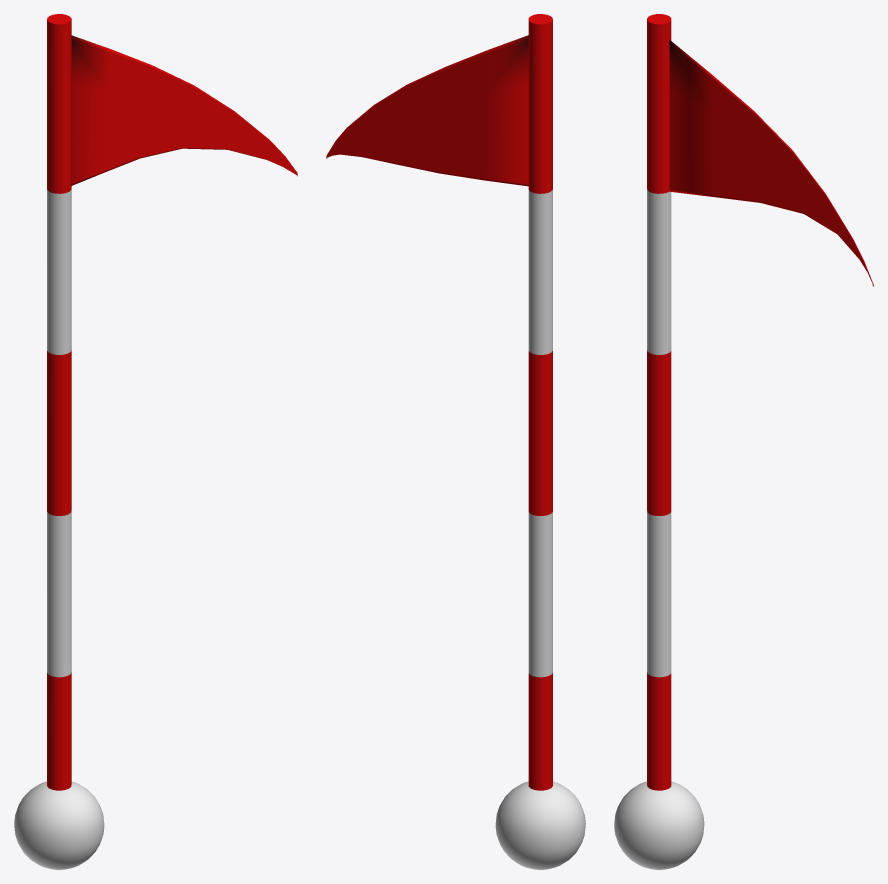
Rendered from flag_with_animation.fbx.
3 renders of one model, left to right at view 1: azimuth 30°, elevation 25°; view 2: azimuth 150°, elevation 25°; view 3: azimuth 330°, elevation 25°, orthographic.
Visible parts, largest first — view 1: flag pole, flag cloth; view 2: flag pole, flag cloth; view 3: flag pole, flag cloth.
Part boxes in pixels (x1,y1,x2,y2): flag pole: [14, 14, 104, 869]; flag cloth: [71, 35, 297, 185]; flag pole: [495, 14, 585, 869]; flag cloth: [326, 35, 528, 186]; flag pole: [614, 14, 704, 869]; flag cloth: [669, 40, 873, 286].
Size of the model in its own units: 232 by 708 by 68.56.
